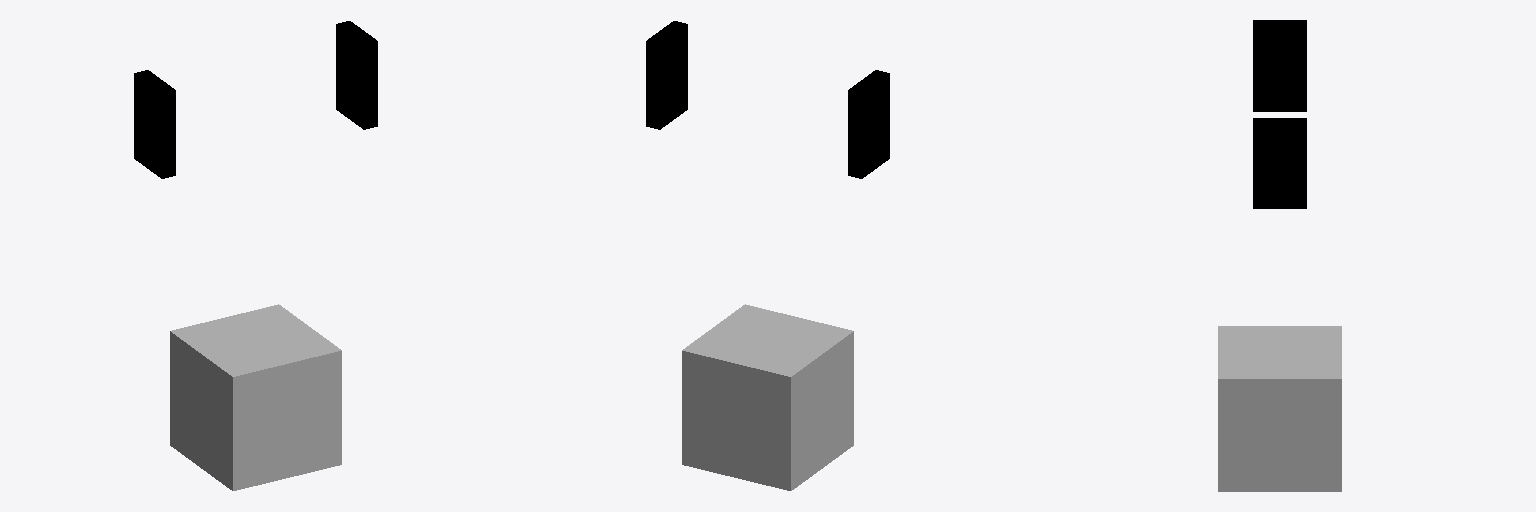
The robot description file, URDF, robot "GEN3-6DOF_VISION_URDF_ARM_V01":
<robot name="GEN3-6DOF_VISION_URDF_ARM_V01" version="1.0">
  <link name="Base_Link">
    <inertial>
      <origin xyz="-0.000648 -0.000166 0.084487" rpy="0 0 0" />
      <mass value="1.697" />
      <inertia ixx="0.004622" ixy="9E-06" ixz="6E-05" iyy="0.004495" iyz="9E-06" izz="0.002079" />
    </inertial>
    <visual>
      <origin xyz="0 0 0" rpy="0 0 0" />
      <geometry>
        <mesh filename="package://kortex_description/arms/gen3/6dof/meshes/base_link.STL" />
      </geometry>
      <material name="">
        <color rgba="0.75294 0.75294 0.75294 1" />
      </material>
    </visual>
    <collision>
      <origin xyz="0 0 0" rpy="0 0 0" />
      <geometry>
        <mesh filename="package://kortex_description/arms/gen3/6dof/meshes/base_link.STL" />
      </geometry>
    </collision>
  </link>
  <link name="Shoulder_Link">
    <inertial>
      <origin xyz="-2.3E-05 -0.010364 -0.07336" rpy="0 0 0" />
      <mass value="1.377" />
      <inertia ixx="0.00457" ixy="1E-06" ixz="2E-06" iyy="0.004831" iyz="0.000448" izz="0.001409" />
    </inertial>
    <visual>
      <origin xyz="0 0 0" rpy="0 0 0" />
      <geometry>
        <mesh filename="package://kortex_description/arms/gen3/6dof/meshes/shoulder_link.STL" />
      </geometry>
      <material name="">
        <color rgba="0.75294 0.75294 0.75294 1" />
      </material>
    </visual>
    <collision>
      <origin xyz="0 0 0" rpy="0 0 0" />
      <geometry>
        <mesh filename="package://kortex_description/arms/gen3/6dof/meshes/shoulder_link.STL" />
      </geometry>
    </collision>
  </link>
  <joint name="Actuator1" type="continuous">
    <origin xyz="0 0 0.156365" rpy="-3.1416 0.0 0.0" />
    <parent link="Base_Link" />
    <child link="Shoulder_Link" />
    <axis xyz="0 0 1" />
    <limit effort="39" velocity="0.8727" />
  </joint>
  <link name="Bicep_Link">
    <inertial>
      <origin xyz="3.5E-05 -0.208207 -0.01889" rpy="0 0 0" />
      <mass value="1.262" />
      <inertia ixx="0.046752" ixy="-9E-06" ixz="0" iyy="0.00085" iyz="-9.8E-05" izz="0.047188" />
    </inertial>
    <visual>
      <origin xyz="0 0 0" rpy="0 0 0" />
      <geometry>
        <mesh filename="package://kortex_description/arms/gen3/6dof/meshes/bicep_link.STL" />
      </geometry>
      <material name="">
        <color rgba="0.75294 0.75294 0.75294 1" />
      </material>
    </visual>
    <collision>
      <origin xyz="0 0 0" rpy="0 0 0" />
      <geometry>
        <mesh filename="package://kortex_description/arms/gen3/6dof/meshes/bicep_link.STL" />
      </geometry>
    </collision>
  </link>
  <joint name="Actuator2" type="fixed">
    <origin xyz="0 0.005375 -0.12843" rpy="1.5708 0.0 0.0" />
    <parent link="Shoulder_Link" />
    <child link="Bicep_Link" />
    <axis xyz="0 0 1" />
    <limit lower="-2.41" upper="2.41" effort="39" velocity="0.8727" />
  </joint>
  <link name="ForeArm_Link">
    <inertial>
      <origin xyz="1.8E-05 0.076168 -0.01397" rpy="0 0 0" />
      <mass value="0.93" />
      <inertia ixx="0.008292" ixy="-1E-06" ixz="0" iyy="0.000628" iyz="0.000432" izz="0.008464" />
    </inertial>
    <visual>
      <origin xyz="0 0 0" rpy="0 0 0" />
      <geometry>
        <mesh filename="package://kortex_description/arms/gen3/6dof/meshes/forearm_link.STL" />
      </geometry>
      <material name="">
        <color rgba="0.75294 0.75294 0.75294 1" />
      </material>
    </visual>
    <collision>
      <origin xyz="0 0 0" rpy="0 0 0" />
      <geometry>
        <mesh filename="package://kortex_description/arms/gen3/6dof/meshes/forearm_link.STL" />
      </geometry>
    </collision>
  </link>
  <joint name="Actuator3" type="revolute">
    <origin xyz="0 -0.41 0" rpy="3.1416 0 0" />
    <parent link="Bicep_Link" />
    <child link="ForeArm_Link" />
    <axis xyz="0 0 1" />
    <limit lower="-2.66" upper="2.66" effort="39" velocity="0.8727" />
  </joint>
  <link name="SphericalWrist1_Link">
    <inertial>
      <origin xyz="-1E-06 0.008486 -0.062937" rpy="0 0 0" />
      <mass value="0.6781" />
      <inertia ixx="0.001645" ixy="0" ixz="0" iyy="0.001666" iyz="-0.000234" izz="0.000389" />
    </inertial>
    <visual>
      <origin xyz="0 0 0" rpy="0 0 0" />
      <geometry>
        <mesh filename="package://kortex_description/arms/gen3/6dof/meshes/spherical_wrist_1_link.STL" />
      </geometry>
      <material name="">
        <color rgba="0.75294 0.75294 0.75294 1" />
      </material>
    </visual>
    <collision>
      <origin xyz="0 0 0" rpy="0 0 0" />
      <geometry>
        <mesh filename="package://kortex_description/arms/gen3/6dof/meshes/spherical_wrist_1_link.STL" />
      </geometry>
    </collision>
  </link>
  <joint name="Actuator4" type="fixed">
    <origin xyz="0 0.20843 -0.006375" rpy="1.5708 0.0 0.0" />
    <parent link="ForeArm_Link" />
    <child link="SphericalWrist1_Link" />
    <axis xyz="0 0 1" />
    <limit effort="9" velocity="0.8727" />
  </joint>
  <link name="SphericalWrist2_Link">
    <inertial>
      <origin xyz="-1E-06 0.046429 -0.008704" rpy="0 0 0" />
      <mass value="0.678" />
      <inertia ixx="0.001685" ixy="0" ixz="0" iyy="0.0004" iyz="0.000255" izz="0.001696" />
    </inertial>
    <visual>
      <origin xyz="0 0 0" rpy="0 0 0" />
      <geometry>
        <mesh filename="package://kortex_description/arms/gen3/6dof/meshes/spherical_wrist_2_link.STL" />
      </geometry>
      <material name="">
        <color rgba="0.75294 0.75294 0.75294 1" />
      </material>
    </visual>
    <collision>
      <origin xyz="0 0 0" rpy="0 0 0" />
      <geometry>
        <mesh filename="package://kortex_description/arms/gen3/6dof/meshes/spherical_wrist_2_link.STL" />
      </geometry>
    </collision>
  </link>
  <joint name="Actuator5" type="revolute">
    <origin xyz="0 -0.00017505 -0.10593" rpy="-1.5708 0.0 0.0" />
    <parent link="SphericalWrist1_Link" />
    <child link="SphericalWrist2_Link" />
    <axis xyz="0 0 1" />
    <limit lower="-2.23" upper="2.23" effort="9" velocity="0.8727" />
  </joint>
  <link name="Bracelet_Link">
    <inertial>
      <origin xyz="0.000281 0.011402 -0.029798" rpy="0 0 0" />
      <mass value="0.5" />
      <inertia ixx="0.000587" ixy="3E-06" ixz="3E-06" iyy="0.000369" iyz="-0.000118" izz="0.000609" />
    </inertial>
    <visual>
      <origin xyz="0 0 0" rpy="0 0 0" />
      <geometry>
        <mesh filename="package://kortex_description/arms/gen3/6dof/meshes/bracelet_with_vision_link.STL" />
      </geometry>
      <material name="">
        <color rgba="0.75294 0.75294 0.75294 1" />
      </material>
    </visual>
    <collision>
      <origin xyz="0 0 0" rpy="0 0 0" />
      <geometry>
        <mesh filename="package://kortex_description/arms/gen3/6dof/meshes/bracelet_with_vision_link.STL" />
      </geometry>
    </collision>
  </link>
  <joint name="Actuator6" type="fixed">
    <origin xyz="0 0.10593 -0.00017505" rpy="1.5708 0.0 0.0" />
    <parent link="SphericalWrist2_Link" />
    <child link="Bracelet_Link" />
    <axis xyz="0 0 1" />
    <limit effort="9" velocity="0.8727" />
  </joint>
  <link name="EndEffector_Link">
    <inertial>
      <origin xyz="0 0 0" rpy="0 0 0" />
      <mass value="0" />
      <inertia ixx="0" ixy="0" ixz="0" iyy="0" iyz="0" izz="0" />
    </inertial>
    <visual>
      <origin xyz="0 0 0" rpy="0 0 0" />
      <geometry>
        <mesh filename="package://kortex_description/arms/gen3/6dof/meshes/EndEffector_Link.STL" />
      </geometry>
      <material name="">
        <color rgba="0.75294 0.75294 0.75294 1" />
      </material>
    </visual>
    <collision>
      <origin xyz="0 0 0" rpy="0 0 0" />
      <geometry>
        <mesh filename="package://kortex_description/arms/gen3/6dof/meshes/EndEffector_Link.STL" />
      </geometry>
    </collision>
  </link>
  <joint name="EndEffector" type="fixed">
    <origin xyz="0 0 -0.061525" rpy="3.1416 0 -3.1416" />
    <parent link="Bracelet_Link" />
    <child link="EndEffector_Link" />
    <axis xyz="0 0 0" />
  </joint>

<!--################################################
  ########              gripper                  #####
  ####################################################-->

  <link name="robotiq_arg2f_base_link">
    <inertial>
      <origin rpy="0 0 0" xyz="8.625E-08 -4.6583E-06 0.03145"/>
      <mass value="0.22652"/>
      <inertia ixx="0.00020005" ixy="-4.2442E-10" ixz="-2.9069E-10" iyy="0.00017832" iyz="-3.4402E-08" izz="0.00013478"/>
    </inertial>
    <visual>
      <origin rpy="0 0 0" xyz="0 0 0"/>
      <geometry>
        <mesh filename="package://meshes/robotiq_85/visual/robotiq_arg2f_85_base_link.dae" scale="0.001 0.001 0.001"/>
      </geometry>
      <material name="LightGrey">
        <color rgba="0.0 0.0 0.0 1.0"/>
      </material>
    </visual>
    <collision>
      <origin rpy="0 0 0" xyz="0 0 0"/>
      <geometry>
        <mesh filename="package://meshes/robotiq_85/collision/robotiq_arg2f_base_link.stl"/>
      </geometry>
    </collision>
  </link>
  <joint name="finger_joint" type="revolute">
    <origin rpy="0 0 3.14159265359" xyz="0 -0.0306011 0.054904"/>
    <parent link="robotiq_arg2f_base_link"/>
    <child link="left_outer_knuckle"/>
    <axis xyz="1 0 0"/>
    <limit effort="1000" lower="0" upper="0.8" velocity="2.0"/>
  </joint>
  <link name="left_outer_knuckle">
    <inertial>
        <origin xyz="-0.000200000000003065 0.0199435877845359 0.0292245259211331" rpy="0 0 0" />
        <mass value="0.00853198276973456" />
        <inertia ixx="2.89328108496468E-06" ixy="-1.57935047237397E-19" ixz="-1.93980378593255E-19" iyy="1.86719750325683E-06" iyz="-1.21858577871576E-06" izz="1.21905238907251E-06" />
        </inertial>
    <visual>
      <origin rpy="0 0 0" xyz="0 0 0"/>
      <geometry>
        <mesh filename="package://meshes/robotiq_85/visual/robotiq_arg2f_85_outer_knuckle.dae" scale="0.001 0.001 0.001"/>
      </geometry>
      <material name="Light Grey">
        <color rgba="0 0 0 1"/>
      </material>
    </visual>
    <collision>
      <origin rpy="0 0 0" xyz="0 0 0"/>
      <geometry>
        <mesh filename="package://meshes/robotiq_85/collision/robotiq_arg2f_85_outer_knuckle.dae" scale="0.001 0.001 0.001"/>
      </geometry>
    </collision>
  </link>
  <joint name="left_outer_finger_joint" type="fixed">
    <origin rpy="0 0 0" xyz="0 0.0315 -0.0041"/>
    <parent link="left_outer_knuckle"/>
    <child link="left_outer_finger"/>
    <axis xyz="1 0 0"/>
  </joint>
  <link name="left_outer_finger">
    <inertial>
        <origin xyz="0.00030115855001899 0.0373907951953854 -0.0208027427000385" rpy="0 0 0" />
        <mass value="0.022614240507152" />
        <inertia ixx="1.52518312458174E-05" ixy="9.76583423954399E-10" ixz="-5.43838577022588E-10" iyy="6.17694243867776E-06" iyz="6.78636130740228E-06" izz="1.16494917907219E-05" />
        </inertial>
    <visual>
      <origin rpy="0 0 0" xyz="0 0 0"/>
      <geometry>
        <mesh filename="package://meshes/robotiq_85/visual/robotiq_arg2f_85_outer_finger.dae" scale="0.001 0.001 0.001"/>
      </geometry>
      <material name="LightGrey">
        <color rgba="0 0 0 1.0"/>
      </material>
    </visual>
    <collision>
      <origin rpy="0 0 0" xyz="0 0 0"/>
      <geometry>
        <mesh filename="package://meshes/robotiq_85/collision/robotiq_arg2f_85_outer_finger.dae" scale="0.001 0.001 0.001"/>
      </geometry>
    </collision>
  </link>
  <joint name="left_inner_finger_joint" type="revolute">
    <origin rpy="0 0 0" xyz="0 0.0061 0.0471"/>
    <parent link="left_outer_finger"/>
    <child link="left_inner_finger"/>
    <axis xyz="1 0 0"/>
    <limit effort="1000" lower="-0.8757" upper="0" velocity="2.0"/>
    <mimic joint="finger_joint" multiplier="-1" offset="0"/>
  </joint>
  <link name="left_inner_finger">
    <inertial>
        <origin xyz="0.000299999999999317 0.0160078233491243 -0.0136945669206257" rpy="0 0 0" />
        <mass value="0.0104003125914103" />
        <inertia ixx="2.71909453810972E-06" ixy="1.35402465472579E-21" ixz="-7.1817349065269E-22" iyy="7.69100314106116E-07" iyz="6.74715432769696E-07" izz="2.30315190420171E-06" />
        </inertial>
    <visual>
      <origin rpy="0 0 0" xyz="0 0 0"/>
      <geometry>
        <mesh filename="package://meshes/robotiq_85/visual/robotiq_arg2f_85_inner_finger.dae" scale="0.001 0.001 0.001"/>
      </geometry>
      <material name="LightGrey">
        <color rgba="0 0 0 1.0"/>
      </material>
    </visual>
    <collision>
      <origin rpy="0 0 0" xyz="0 0 0"/>
      <geometry>
        <mesh filename="package://meshes/robotiq_85/collision/robotiq_arg2f_85_inner_finger.dae" scale="0.001 0.001 0.001"/>
      </geometry>
    </collision>
  </link>
  <joint name="left_inner_finger_pad_joint" type="fixed">
    <origin rpy="0 0 0" xyz="0 -0.0220203446692936 0.03242"/>
    <parent link="left_inner_finger"/>
    <child link="left_inner_finger_pad"/>
    <axis xyz="0 0 1"/>
  </joint>
  <link name="left_inner_finger_pad">
    <inertial>
      <mass value="1."/>
      <inertia ixx="1E-10" ixy="1E-10" ixz="1E-10" iyy="1E-10" iyz="1E-10" izz="1E-10"/>
    </inertial>
    <visual>
      <origin rpy="0 0 0" xyz="0 0 0"/>
      <geometry>
        <box size="0.022 0.00635 0.0375"/>
      </geometry>
      <material name="LightGrey">
        <color rgba="0.0 0.0 0.0 1.0"/>
      </material>
    </visual>
    <collision>
      <origin rpy="0 0 0" xyz="0 0 0"/>
      <geometry>
        <box size="0.022 0.00635 0.0375"/>
      </geometry>
      <material name="LightGrey">
        <color rgba="0.0 0.0 0.0 1"/>
      </material>
    </collision>
  </link>
  <joint name="left_inner_knuckle_joint" type="revolute">
    <!-- <origin xyz="0 ${reflect * -0.0127} 0.06142" rpy="${pi / 2 + .725} 0 ${(reflect - 1) * pi / 2}" /> -->
    <origin rpy="0 0 3.14159265359" xyz="0 -0.0127 0.06142"/>
    <parent link="robotiq_arg2f_base_link"/>
    <child link="left_inner_knuckle"/>
    <axis xyz="1 0 0"/>
    <limit effort="1000" lower="0" upper="0.8757" velocity="2.0"/>
    <mimic joint="finger_joint" multiplier="1" offset="0"/>
  </joint>
  <link name="left_inner_knuckle">
    <inertial>
        <origin xyz="0.000123011831763771 0.0507850843201817 0.00103968640075166" rpy="0 0 0" />
       <mass value="0.0271177346495152" />
        <inertia ixx="2.61910379223783E-05" ixy="-2.43616858946494E-07" ixz="-6.37789906117123E-09" iyy="2.8270243746167E-06" iyz="-5.37200748039765E-07" izz="2.83695868220296E-05" />
        </inertial>
    <visual>
      <origin rpy="0 0 0" xyz="0 0 0"/>
      <geometry>
        <mesh filename="package://meshes/robotiq_85/visual/robotiq_arg2f_85_inner_knuckle.dae" scale="0.001 0.001 0.001"/>
      </geometry>
      <material name="LightGrey">
        <color rgba="0 0 0 1.0"/>
      </material>
    </visual>
    <collision>
      <origin rpy="0 0 0" xyz="0 0 0"/>
      <geometry>
        <mesh filename="package://meshes/robotiq_85/collision/robotiq_arg2f_85_inner_knuckle.dae" scale="0.001 0.001 0.001"/>
      </geometry>
    </collision>
  </link>
  <joint name="right_outer_knuckle_joint" type="revolute">
    <origin rpy="0 0 0" xyz="0 0.0306011 0.054904"/>
    <parent link="robotiq_arg2f_base_link"/>
    <child link="right_outer_knuckle"/>
    <axis xyz="1 0 0"/>
    <limit effort="1000" lower="0" upper="0.81" velocity="2.0"/>
    <mimic joint="finger_joint" multiplier="1" offset="0"/>
  </joint>
  <link name="right_outer_knuckle">
    <inertial>
        <origin xyz="-0.000200000000003065 0.0199435877845359 0.0292245259211331" rpy="0 0 0" />
        <mass value="0.00853198276973456" />
        <inertia ixx="2.89328108496468E-06" ixy="-1.57935047237397E-19" ixz="-1.93980378593255E-19" iyy="1.86719750325683E-06" iyz="-1.21858577871576E-06" izz="1.21905238907251E-06" />
        </inertial>
    <visual>
      <origin rpy="0 0 0" xyz="0 0 0"/>
      <geometry>
        <mesh filename="package://meshes/robotiq_85/visual/robotiq_arg2f_85_outer_knuckle.dae" scale="0.001 0.001 0.001"/>
      </geometry>
      <material name="LightGrey">
        <color rgba="0.0 0.0 0.0 1"/>
      </material>
    </visual>
    <collision>
      <origin rpy="0 0 0" xyz="0 0 0"/>
      <geometry>
        <mesh filename="package://meshes/robotiq_85/collision/robotiq_arg2f_85_outer_knuckle.dae" scale="0.001 0.001 0.001"/>
      </geometry>
    </collision>
  </link>
  <joint name="right_outer_finger_joint" type="fixed">
    <origin rpy="0 0 0" xyz="0 0.0315 -0.0041"/>
    <parent link="right_outer_knuckle"/>
    <child link="right_outer_finger"/>
    <axis xyz="1 0 0"/>
  </joint>
  <link name="right_outer_finger">
    <inertial>
        <origin xyz="0.00030115855001899 0.0373907951953854 -0.0208027427000385" rpy="0 0 0" />
        <mass value="0.022614240507152" />
        <inertia ixx="1.52518312458174E-05" ixy="9.76583423954399E-10" ixz="-5.43838577022588E-10" iyy="6.17694243867776E-06" iyz="6.78636130740228E-06" izz="1.16494917907219E-05" />
        </inertial>
    <visual>
      <origin rpy="0 0 0" xyz="0 0 0"/>
      <geometry>
        <mesh filename="package://meshes/robotiq_85/visual/robotiq_arg2f_85_outer_finger.dae" scale="0.001 0.001 0.001"/>
      </geometry>
      <material name="LightGrey">
        <color rgba="0.0 0.0 0.0 1.0"/>
      </material>
    </visual>
    <collision>
      <origin rpy="0 0 0" xyz="0 0 0"/>
      <geometry>
        <mesh filename="package://meshes/robotiq_85/collision/robotiq_arg2f_85_outer_finger.dae" scale="0.001 0.001 0.001"/>
      </geometry>
    </collision>
  </link>
  <joint name="right_inner_finger_joint" type="revolute">
    <origin rpy="0 0 0" xyz="0 0.0061 0.0471"/>
    <parent link="right_outer_finger"/>
    <child link="right_inner_finger"/>
    <axis xyz="1 0 0"/>
    <limit effort="1000" lower="-0.8757" upper="0" velocity="2.0"/>
    <mimic joint="finger_joint" multiplier="-1" offset="0"/>
  </joint>
  <link name="right_inner_finger">
    <inertial>
        <origin xyz="0.000299999999999317 0.0160078233491243 -0.0136945669206257" rpy="0 0 0" />
        <mass value="0.0104003125914103" />
        <inertia ixx="2.71909453810972E-06" ixy="1.35402465472579E-21" ixz="-7.1817349065269E-22" iyy="7.69100314106116E-07" iyz="6.74715432769696E-07" izz="2.30315190420171E-06" />
        </inertial>
    <visual>
      <origin rpy="0 0 0" xyz="0 0 0"/>
      <geometry>
        <mesh filename="package://meshes/robotiq_85/visual/robotiq_arg2f_85_inner_finger.dae" scale="0.001 0.001 0.001"/>
      </geometry>
      <material name="LightGrey">
        <color rgba="0.0 0.0 0.0 1"/>
      </material>
    </visual>
    <collision>
      <origin rpy="0 0 0" xyz="0 0 0"/>
      <geometry>
        <mesh filename="package://meshes/robotiq_85/collision/robotiq_arg2f_85_inner_finger.dae" scale="0.001 0.001 0.001"/>
      </geometry>
    </collision>
  </link>
  <joint name="right_inner_finger_pad_joint" type="fixed">
    <origin rpy="0 0 0" xyz="0 -0.0220203446692936 0.03242"/>
    <parent link="right_inner_finger"/>
    <child link="right_inner_finger_pad"/>
    <axis xyz="0 0 1"/>
  </joint>
  <link name="right_inner_finger_pad">
    <inertial>
      <mass value="1"/>
      <inertia ixx="1E-10" ixy="1E-10" ixz="1E-10" iyy="1E-10" iyz="1E-10" izz="1E-10"/>
    </inertial>
    <visual>
      <origin rpy="0 0 0" xyz="0 0 0"/>
      <geometry>
        <box size="0.022 0.00635 0.0375"/>
      </geometry>
      <material name="LightGrey">
        <color rgba="0.0 0.0 0.0 1.0"/>
      </material>
    </visual>
    <collision>
      <origin rpy="0 0 0" xyz="0 0 0"/>
      <geometry>
        <box size="0.022 0.00635 0.0375"/>
      </geometry>
      <material name="LightGrey">
        <color rgba="0.0 0.0 0.0 1.0"/>
      </material>
    </collision>
  </link>
  <joint name="right_inner_knuckle_joint" type="revolute">
    <!-- <origin xyz="0 ${reflect * -0.0127} 0.06142" rpy="${pi / 2 + .725} 0 ${(reflect - 1) * pi / 2}" /> -->
    <origin rpy="0 0 0.0" xyz="0 0.0127 0.06142"/>
    <parent link="robotiq_arg2f_base_link"/>
    <child link="right_inner_knuckle"/>
    <axis xyz="1 0 0"/>
    <limit effort="1000" lower="0" upper="0.8757" velocity="2.0"/>
    <mimic joint="finger_joint" multiplier="1" offset="0"/>
  </joint>
  <link name="right_inner_knuckle">
    <inertial>
        <origin xyz="0.000123011831763771 0.0507850843201817 0.00103968640075166" rpy="0 0 0" />
       <mass value="0.0271177346495152" />
        <inertia ixx="2.61910379223783E-05" ixy="-2.43616858946494E-07" ixz="-6.37789906117123E-09" iyy="2.8270243746167E-06" iyz="-5.37200748039765E-07" izz="2.83695868220296E-05" />
        </inertial>
    <visual>
      <origin rpy="0 0 0" xyz="0 0 0"/>
      <geometry>
        <mesh filename="package://meshes/robotiq_85/visual/robotiq_arg2f_85_inner_knuckle.dae" scale="0.001 0.001 0.001"/>
      </geometry>
      <material name="LightGrey">
        <color rgba="0 0 0 1.0"/>
      </material>
    </visual>
    <collision>
      <origin rpy="0 0 0" xyz="0 0 0"/>
      <geometry>
        <mesh filename="package://meshes/robotiq_85/collision/robotiq_arg2f_85_inner_knuckle.dae" scale="0.001 0.001 0.001"/>
      </geometry>
    </collision>
  </link>

  <!--################################################
  ########          connect model                #####
  ####################################################-->

  <link name="world"/>
  <!-- connect gripper to arm -->
  <joint name="robotiq_85_base_joint" type="fixed">
    <parent link="EndEffector_Link"/>
    <child link="robotiq_arg2f_base_link"/>
    <origin rpy="0 0 1.57079632679" xyz="0 0 0"/>
  </joint>

<!--  <joint name="arm_gripper_joint" type="fixed">-->
<!--    <parent link="ee_link"/>-->
<!--    <child link="robotiq_140_robotiq_arg2f_base_link"/>-->
<!--    <origin rpy="-1.57 1.57 -1.57" xyz="0.0 0.0 0.0"/>-->
<!--  </joint>-->

  <!-- connect arm to world -->
  <joint name="world_arm_joint" type="fixed">
    <parent link="world"/>
    <child link="Base_Link"/>
    <origin rpy="0.0 0.0 0" xyz="0 0 0"/>
  </joint>

</robot>

--- What the picture shows (computed from the rendered views, not written in the file) ---
The picture shows the robot from 3 angles, left to right: view 1: azimuth 30°, elevation 25°; view 2: azimuth 150°, elevation 25°; view 3: azimuth 270°, elevation 25°; orthographic projection.
Model GEN3-6DOF_VISION_URDF_ARM_V01 with 20 links and 19 joints (8 revolute, 1 continuous, 10 fixed), rooted at world, posed every joint at zero.
Visible links, largest first — view 1: EndEffector_Link, left_inner_finger_pad, right_inner_finger_pad; view 2: EndEffector_Link, left_inner_finger_pad, right_inner_finger_pad; view 3: EndEffector_Link, left_inner_finger_pad, right_inner_finger_pad.
Link boxes in pixels (x1=…): EndEffector_Link: x1=170, y1=304, x2=341, y2=490; left_inner_finger_pad: x1=134, y1=70, x2=175, y2=178; right_inner_finger_pad: x1=336, y1=21, x2=377, y2=129; EndEffector_Link: x1=682, y1=304, x2=853, y2=490; left_inner_finger_pad: x1=848, y1=70, x2=889, y2=178; right_inner_finger_pad: x1=646, y1=21, x2=687, y2=129; EndEffector_Link: x1=1218, y1=326, x2=1341, y2=491; left_inner_finger_pad: x1=1253, y1=20, x2=1306, y2=111; right_inner_finger_pad: x1=1253, y1=118, x2=1306, y2=208.
Size in the robot's own frame: 0.0987 by 0.05 by 0.1741 metres.
1 mesh visuals loaded from 13 distinct referenced files (1 binary STL); not drawn: 16 (reference not matched to a file when rendering).